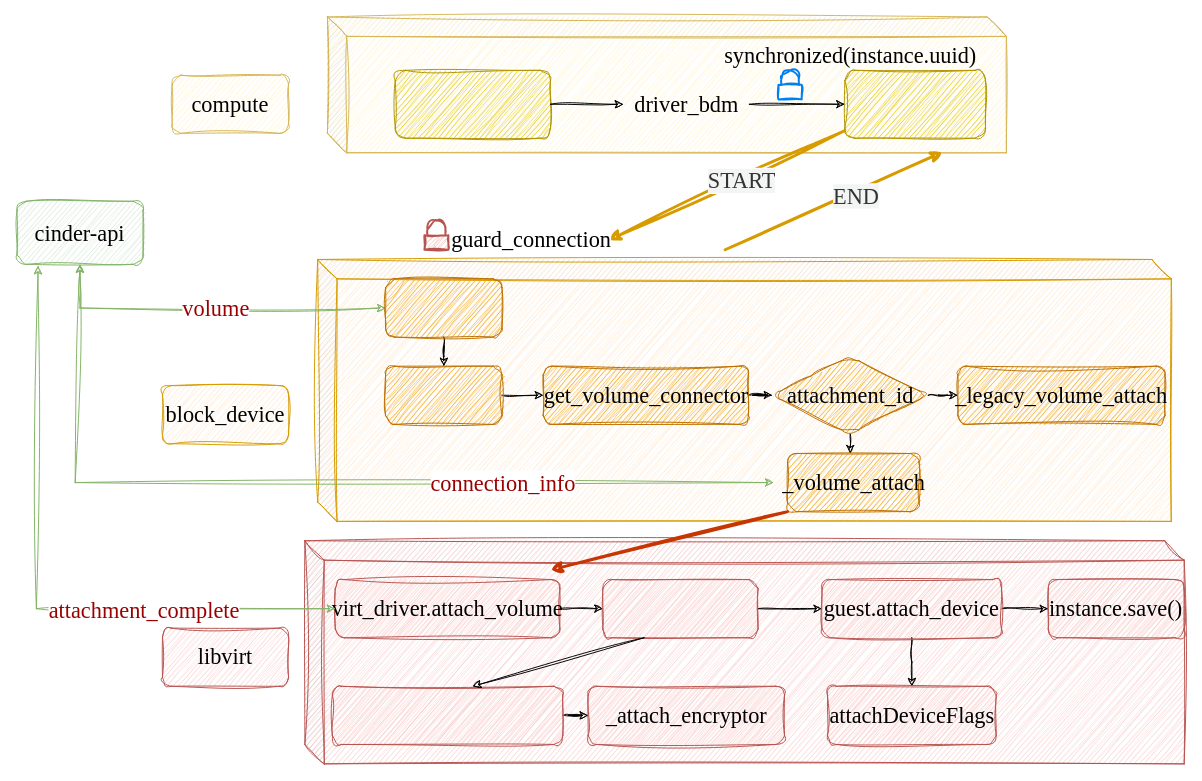
Image size: 1202x781. Some labels were removed from this diagram. The centre of each missing label's shape, as x and y in pixels:
"_attach_volume" goes at point (915, 103).
"_connect_volume" goes at point (680, 608).
"_do_attach" goes at point (443, 394).
"bdm.attach" goes at point (443, 307).
"ComputeManager" goes at point (472, 103).
"vol_driver.connect_volume" goes at point (447, 714).
